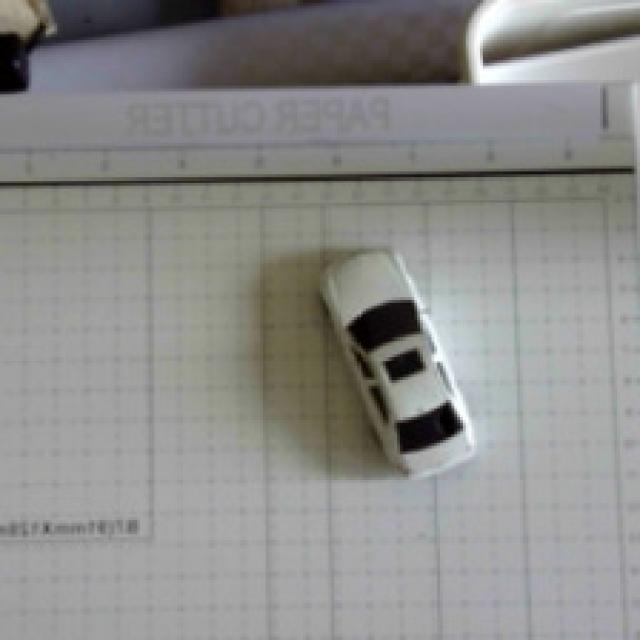Grey Car: (287, 223, 518, 507)
